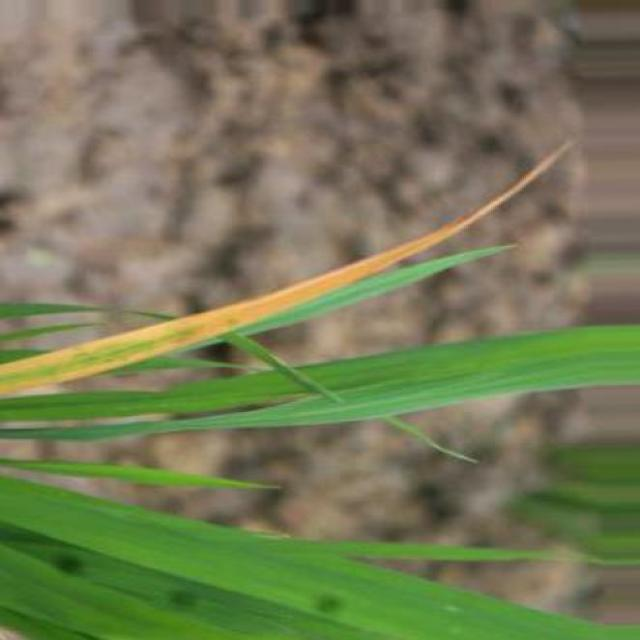Rice Tungro: (0, 143, 572, 393)
